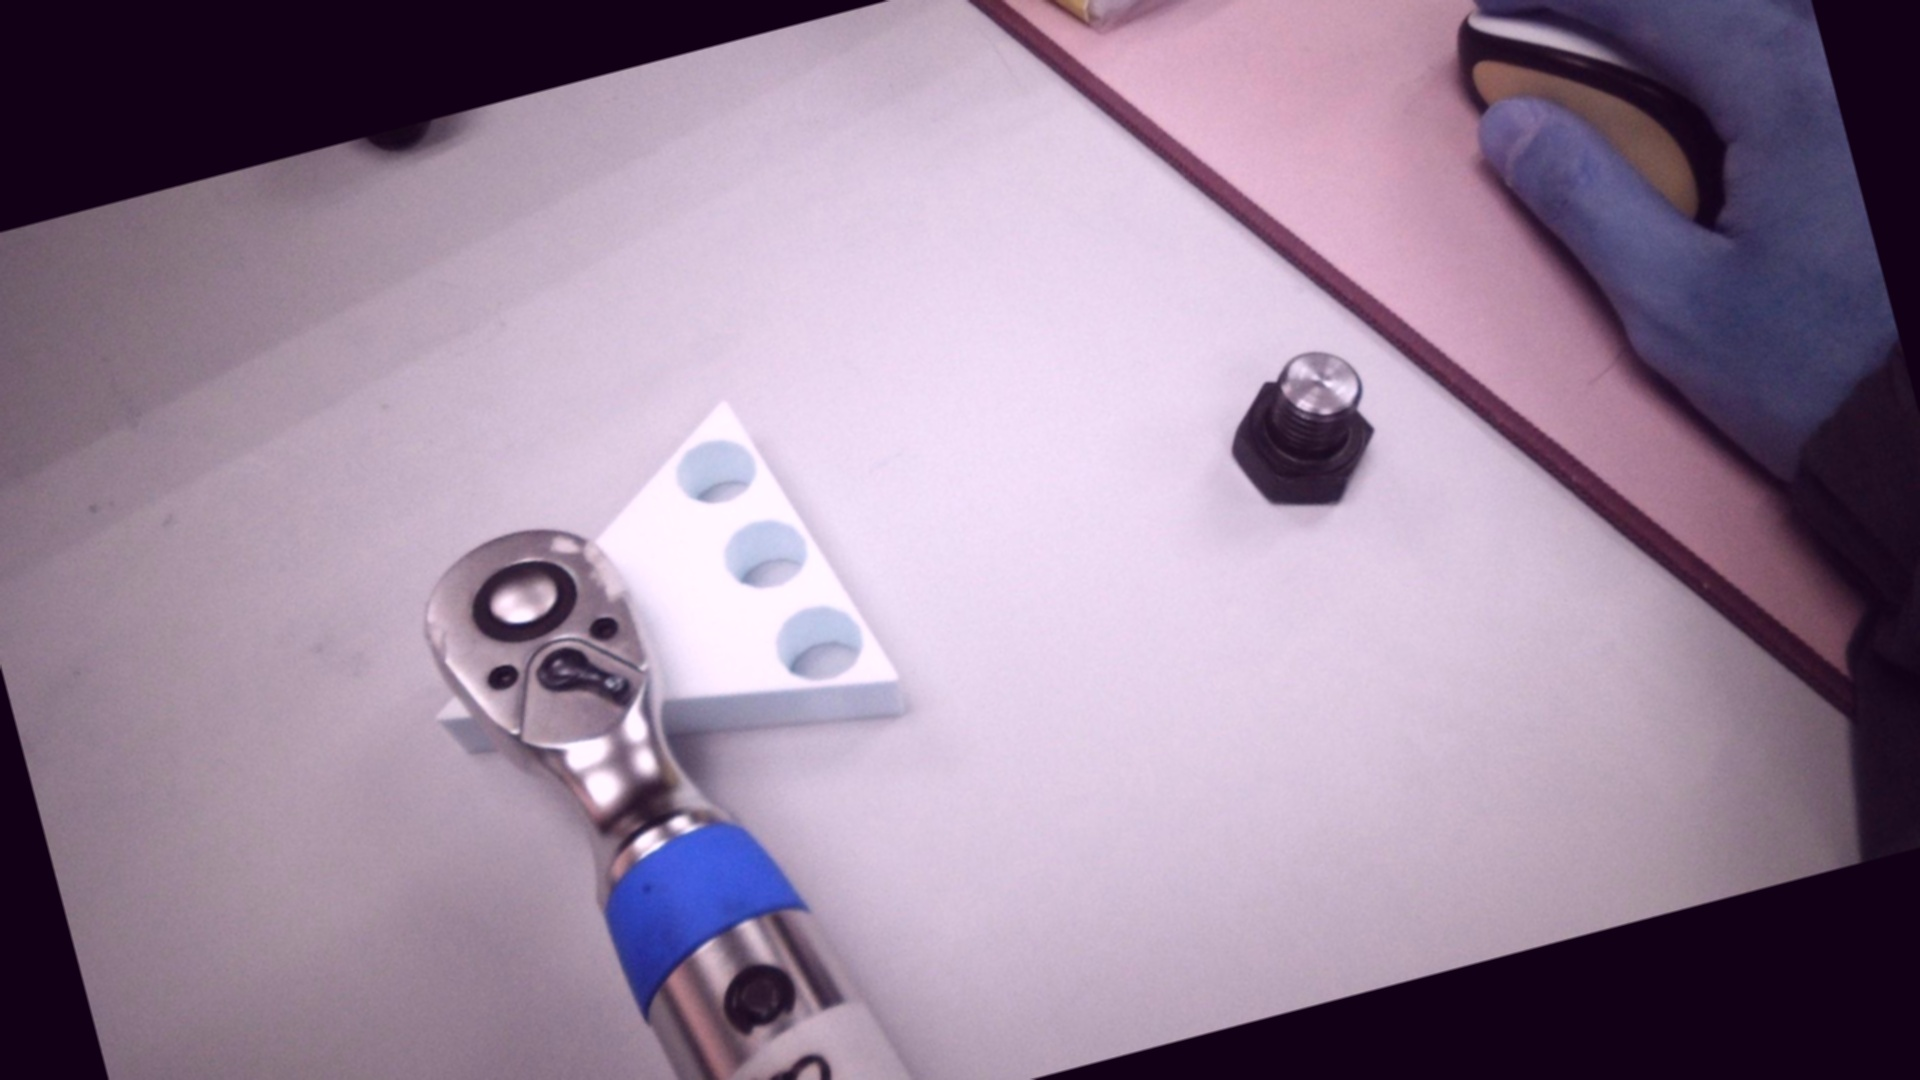hole: (767, 595, 872, 684), (717, 510, 816, 597), (669, 430, 764, 512)
obj: (376, 373, 910, 836)
wrench: (462, 550, 585, 654)
